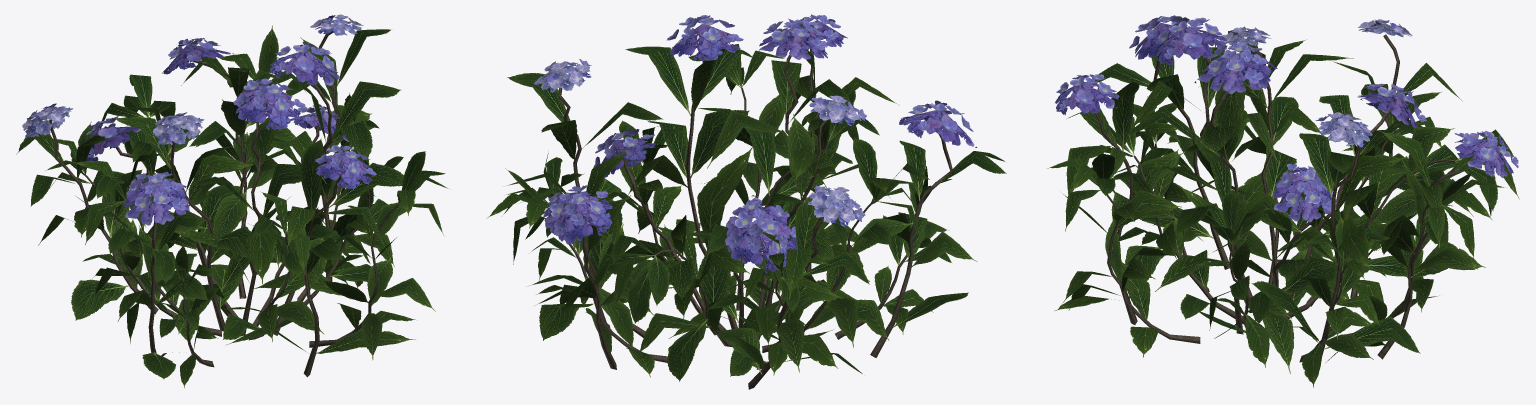
File: arden_forest_hydrangea_01.fbx
The picture shows the model from 3 angles, left to right: view 1: azimuth 30°, elevation 25°; view 2: azimuth 150°, elevation 25°; view 3: azimuth 270°, elevation 25°; orthographic projection. The views are drawn at different scales.
Visible parts, largest first — view 1: arden_forest_hydrangea_01; view 2: arden_forest_hydrangea_01; view 3: arden_forest_hydrangea_01.
Boxes of the visible parts, box(x1,y1,x2,y2) form: arden_forest_hydrangea_01: box(16, 14, 450, 387); arden_forest_hydrangea_01: box(486, 14, 1006, 389); arden_forest_hydrangea_01: box(1047, 15, 1519, 387).
Size of the model in its own units: 1.78 by 1.77 by 1.24.
